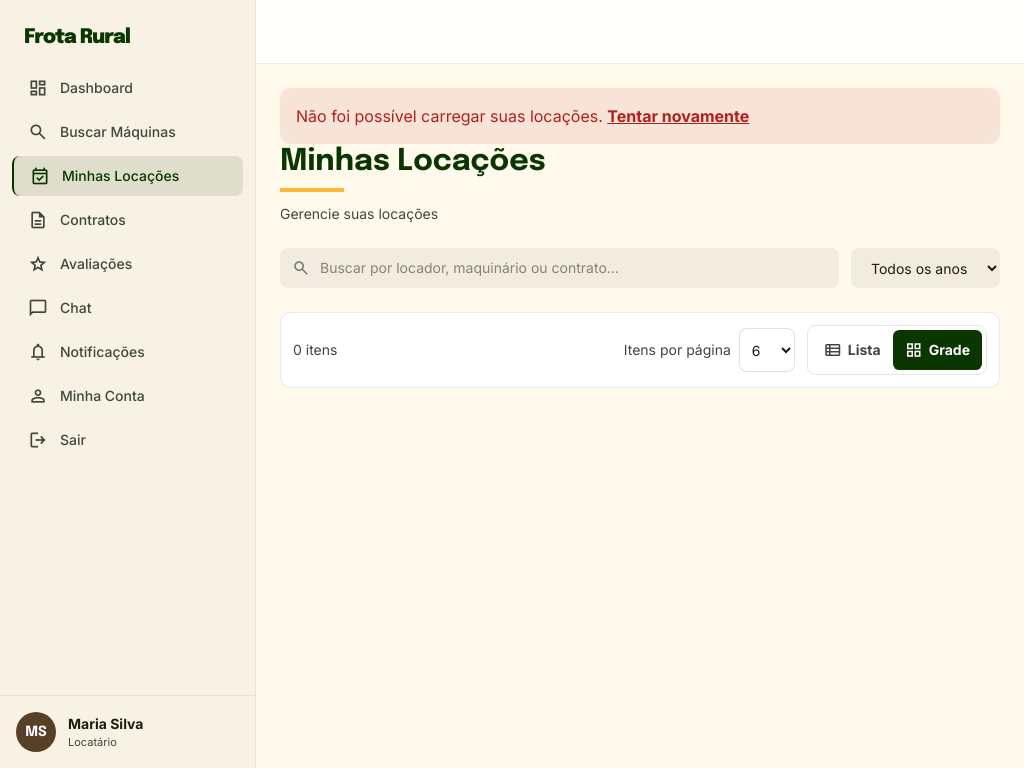
retries loading rentals after a failure
The width and height of the screenshot is (1024, 768).
Click the button "Tentar novamente": (678, 116) [607,104,749,128]
(page scrolled)
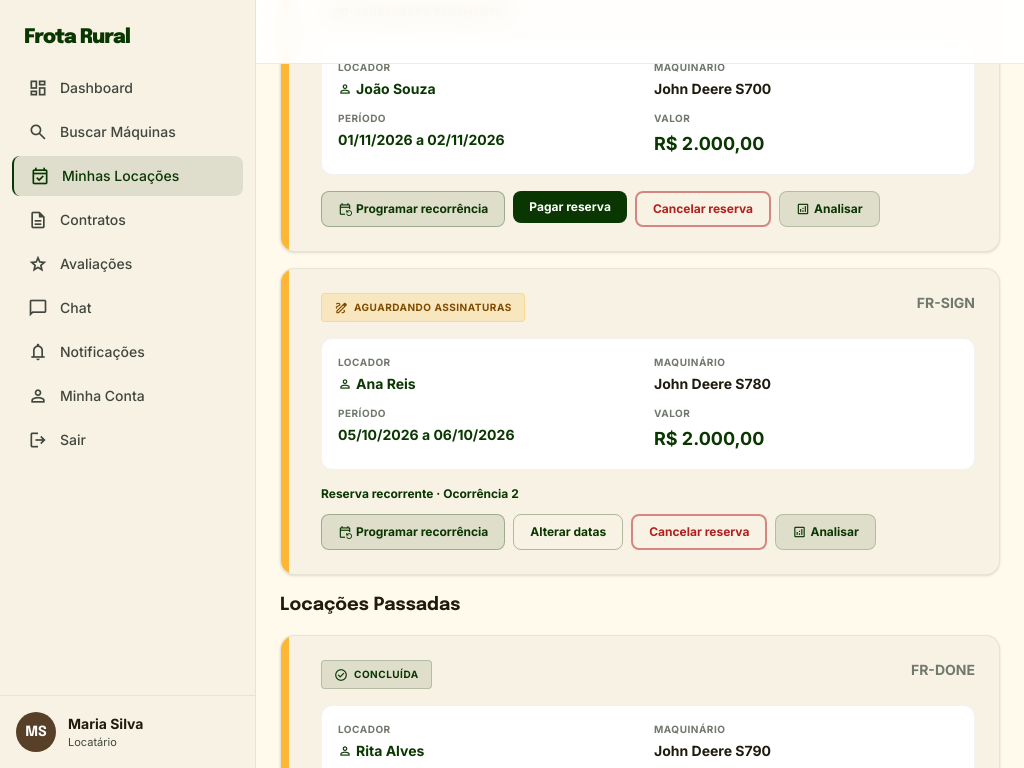
Expected: the text "Ana Reis" is shown, [338,375,416,392]
